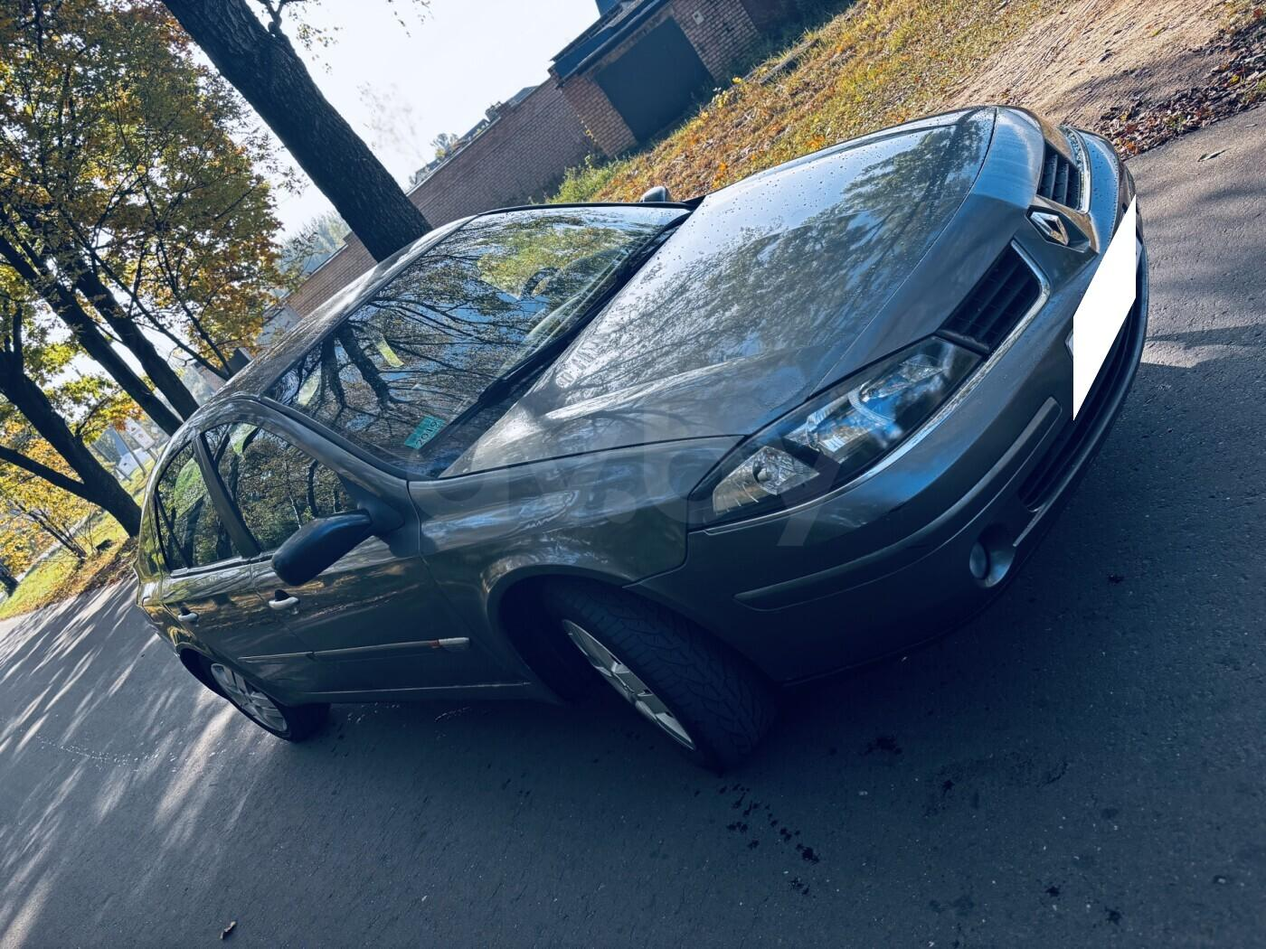Laguna_2005-2007: (134, 106, 1157, 777)
